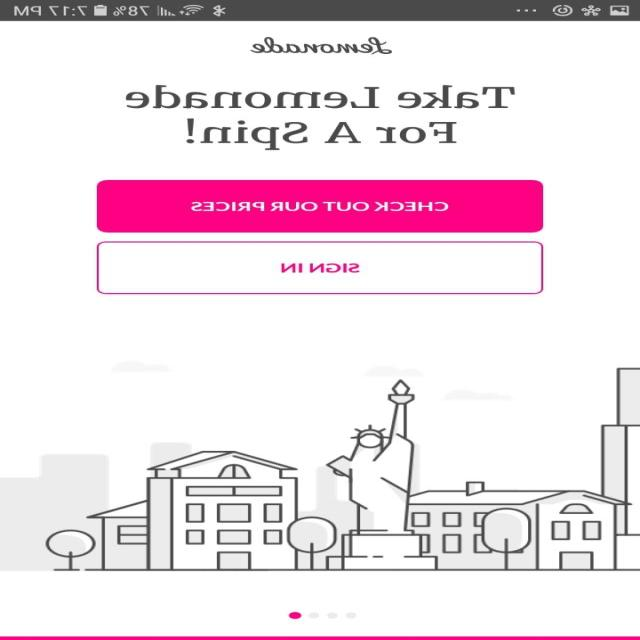Image: (2, 368, 640, 572), (250, 37, 393, 55)
Text: (126, 84, 516, 151)
TextButton: (97, 240, 545, 294), (97, 179, 544, 233)
